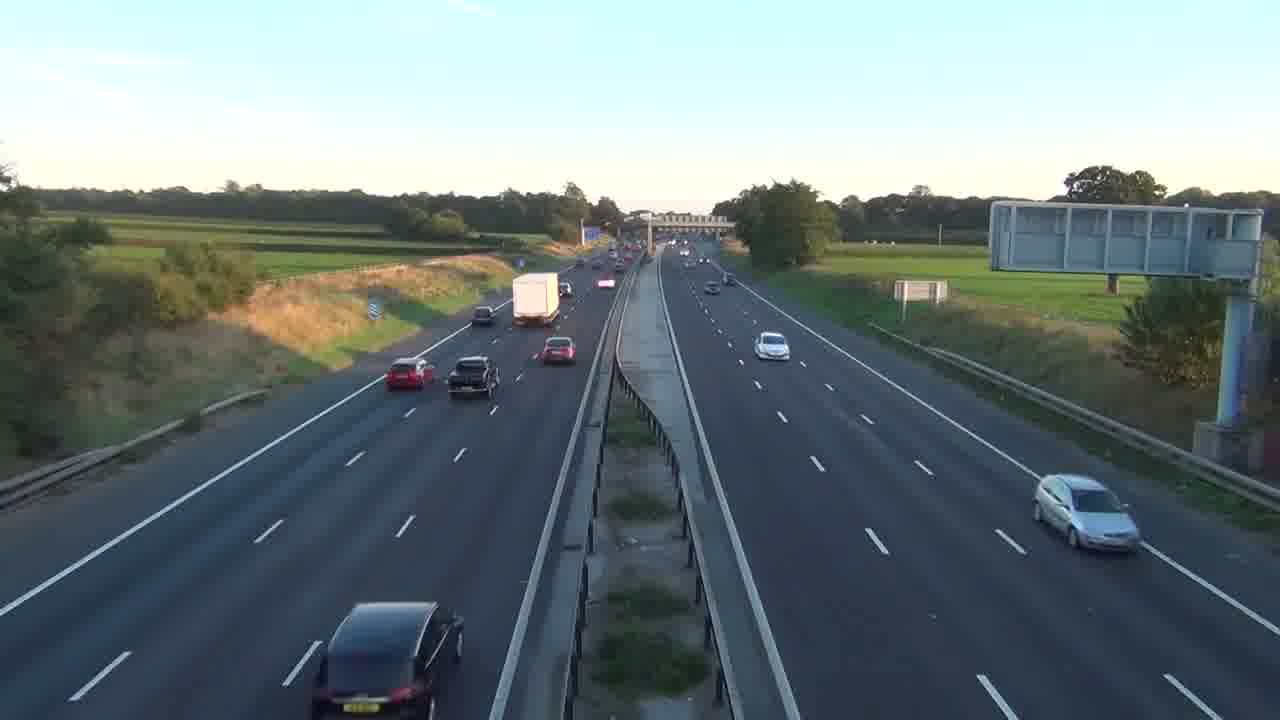car: (1032, 472, 1140, 554), (446, 355, 499, 399), (540, 336, 577, 366), (754, 331, 790, 361), (471, 304, 495, 326), (704, 282, 722, 294)
truck: (309, 600, 465, 718), (511, 271, 561, 328)
